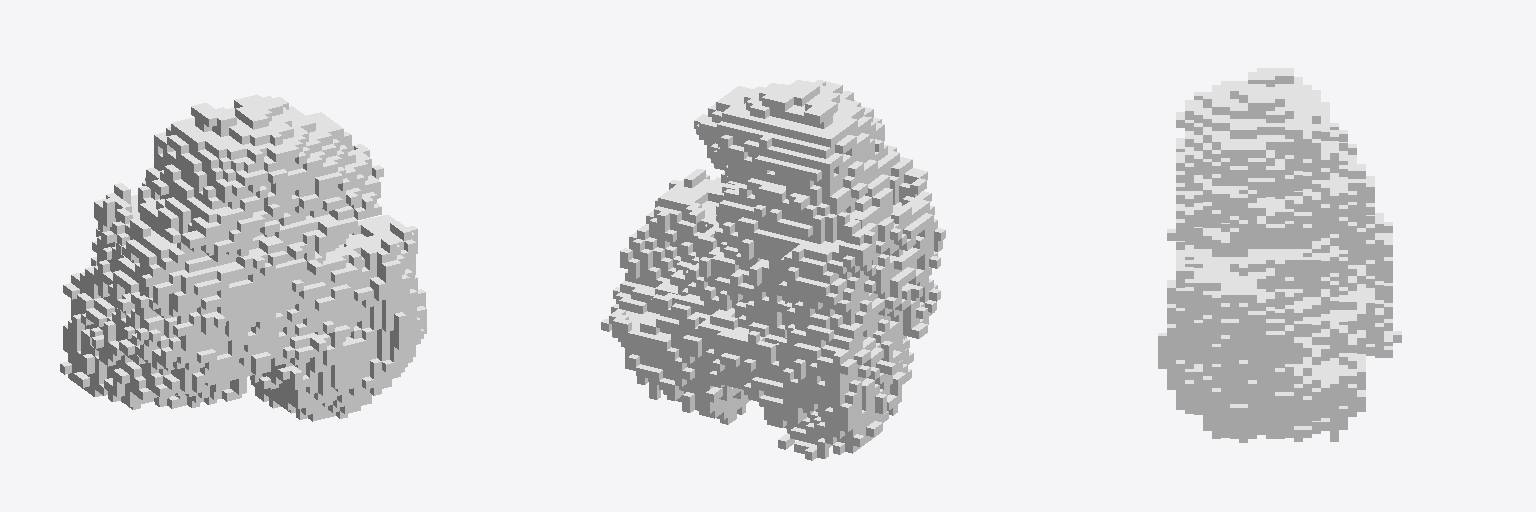
File: jupiter.obj
The picture shows the model from 3 angles: view 1: azimuth 30°, elevation 25°; view 2: azimuth 150°, elevation 25°; view 3: azimuth 270°, elevation 25°; orthographic projection.
Parts seen in each view (by area): view 1: jupiter; view 2: jupiter; view 3: jupiter.
Boxes of the visible parts, <box> form: jupiter: <box>60,94,426,421</box>; jupiter: <box>601,80,945,460</box>; jupiter: <box>1158,68,1401,442</box>.
Bounding box in the file's own units: 37 × 39 × 27.